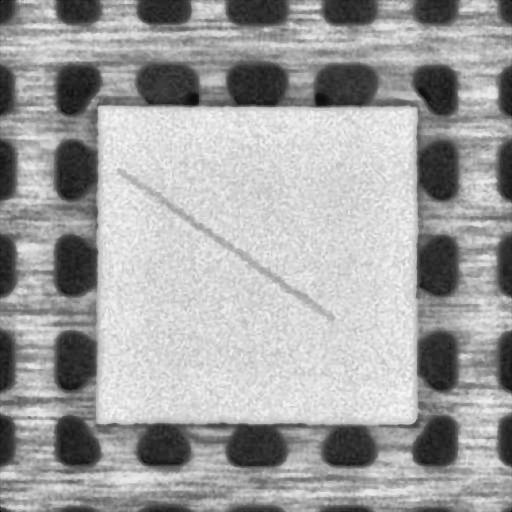DIE_CRACK: (118, 170, 331, 318)
